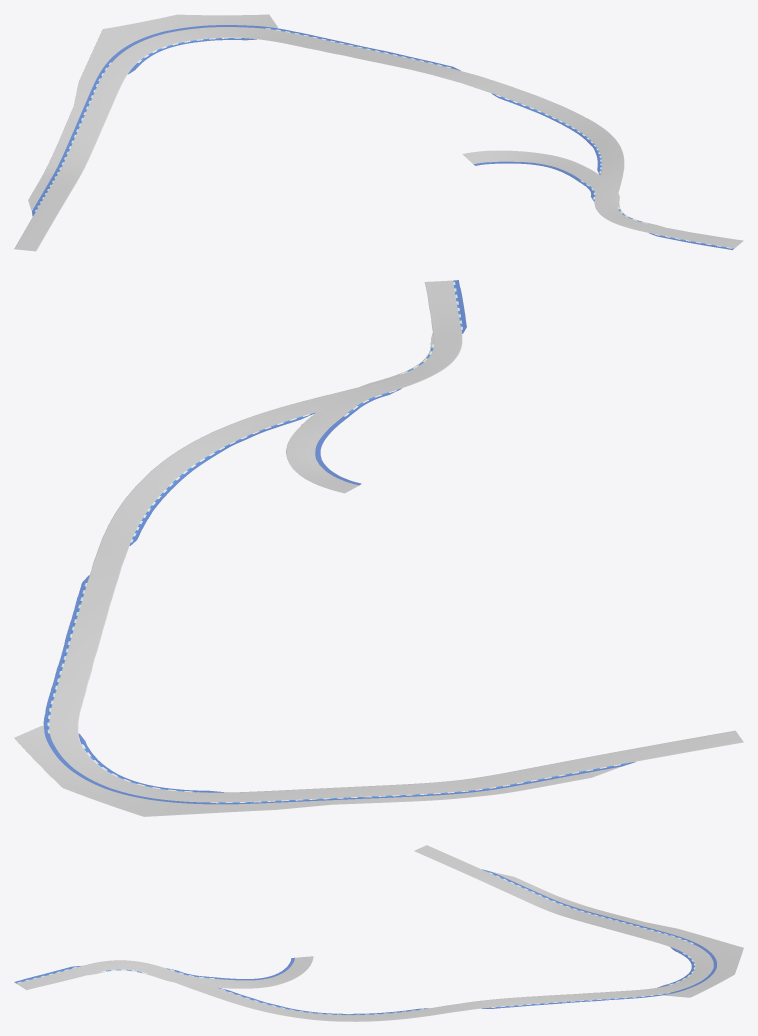
Rendered from track_road_sector6.dae.
The picture shows the model from 3 angles, top to bottom: view 1: azimuth 30°, elevation 25°; view 2: azimuth 150°, elevation 25°; view 3: azimuth 270°, elevation 25°; orthographic projection. The views are drawn at different scales.
Parts seen in each view (by area): view 1: road_track_sector6_a6000; view 2: road_track_sector6_a6000; view 3: road_track_sector6_a6000.
Boxes of the visible parts, x1=… form: road_track_sector6_a6000: x1=14, y1=14, x2=743, y2=251; road_track_sector6_a6000: x1=14, y1=280, x2=743, y2=816; road_track_sector6_a6000: x1=14, y1=845, x2=743, y2=1021.
Bounding box in the file's own units: 297 × 432 × 41.01.
